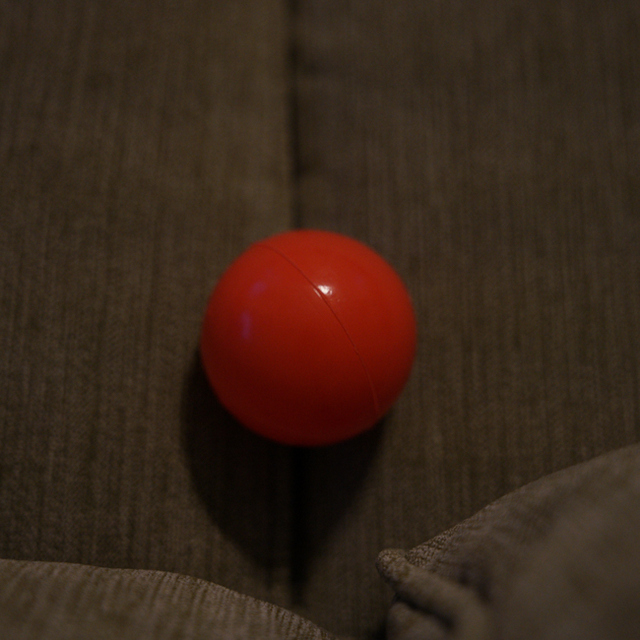Ball: (201, 227, 414, 443)
